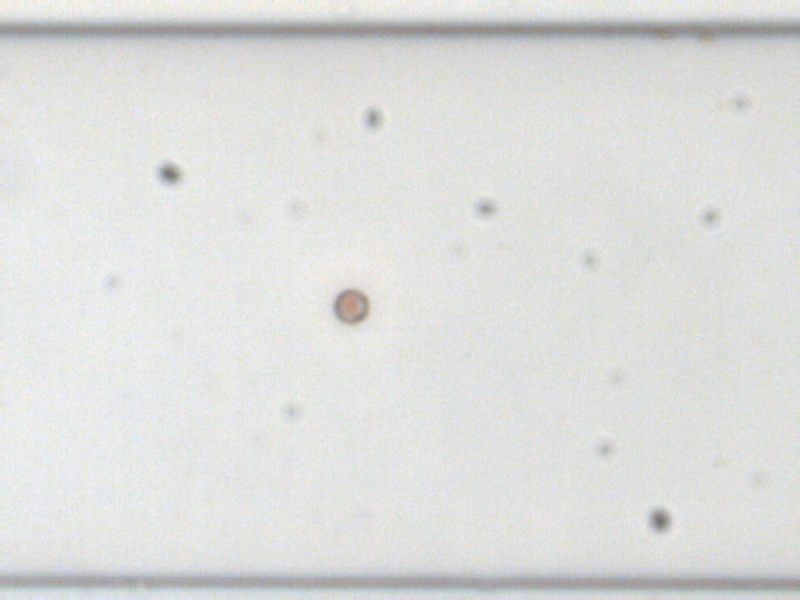Porphyridium: (330, 286, 370, 327)
